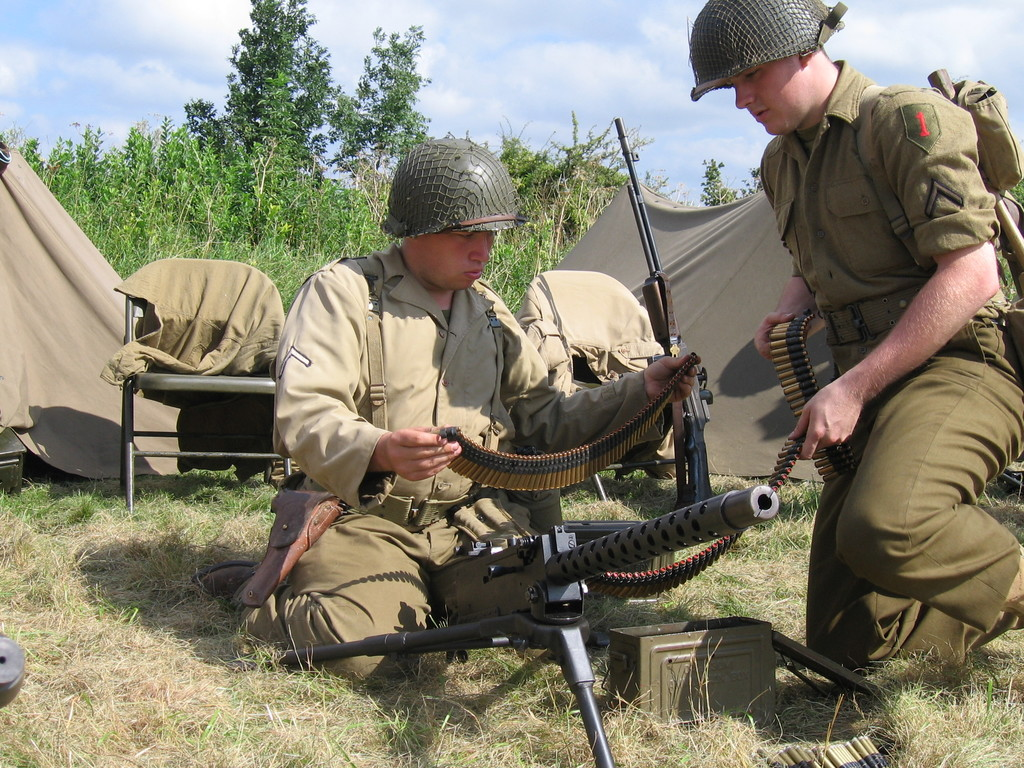Person: (189, 138, 701, 688), (685, 0, 1024, 673)
